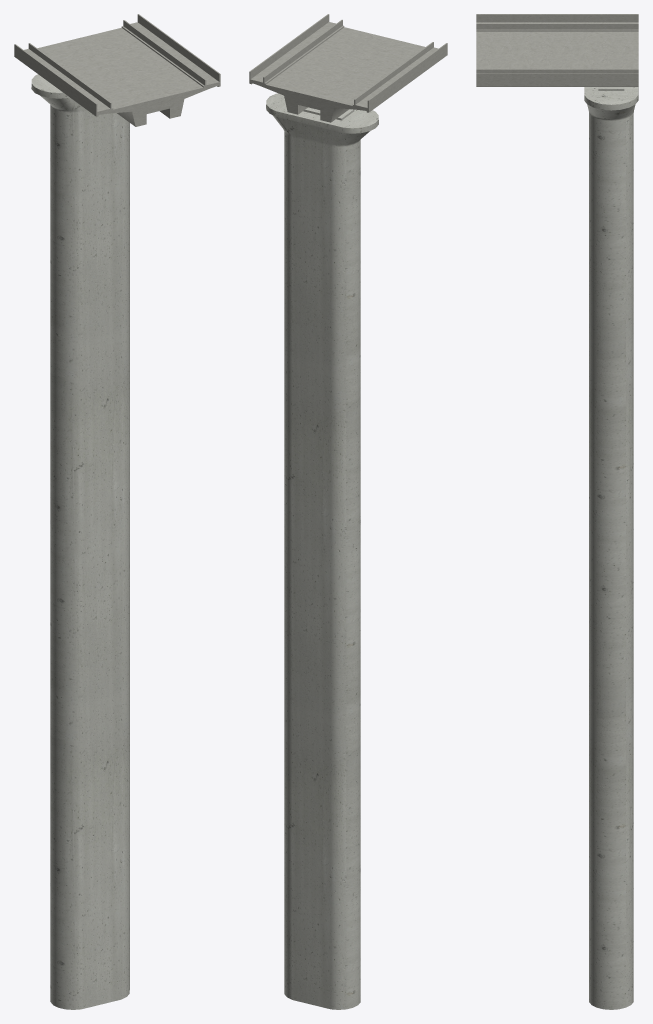
The model's file is 高架桥（长）双线版本.fbx.
3 views of the same model, side by side, from view 1: azimuth 30°, elevation 25°; view 2: azimuth 150°, elevation 25°; view 3: azimuth 270°, elevation 25° (orthographic). The views are drawn at different scales.
Visible parts, largest first — view 1: QiaoDun003, QiaoMian003; view 2: QiaoDun003, QiaoMian003; view 3: QiaoDun003, QiaoMian003.
Boxes of the visible parts, x1,y1,x2,y2 form: QiaoDun003: (31,74,129,1009); QiaoMian003: (14,14,220,126); QiaoDun003: (266,93,378,1009); QiaoMian003: (249,14,447,122); QiaoDun003: (584,87,638,1009); QiaoMian003: (476,14,638,86).
Size of the model in its own units: 28.05 by 206 by 32.
